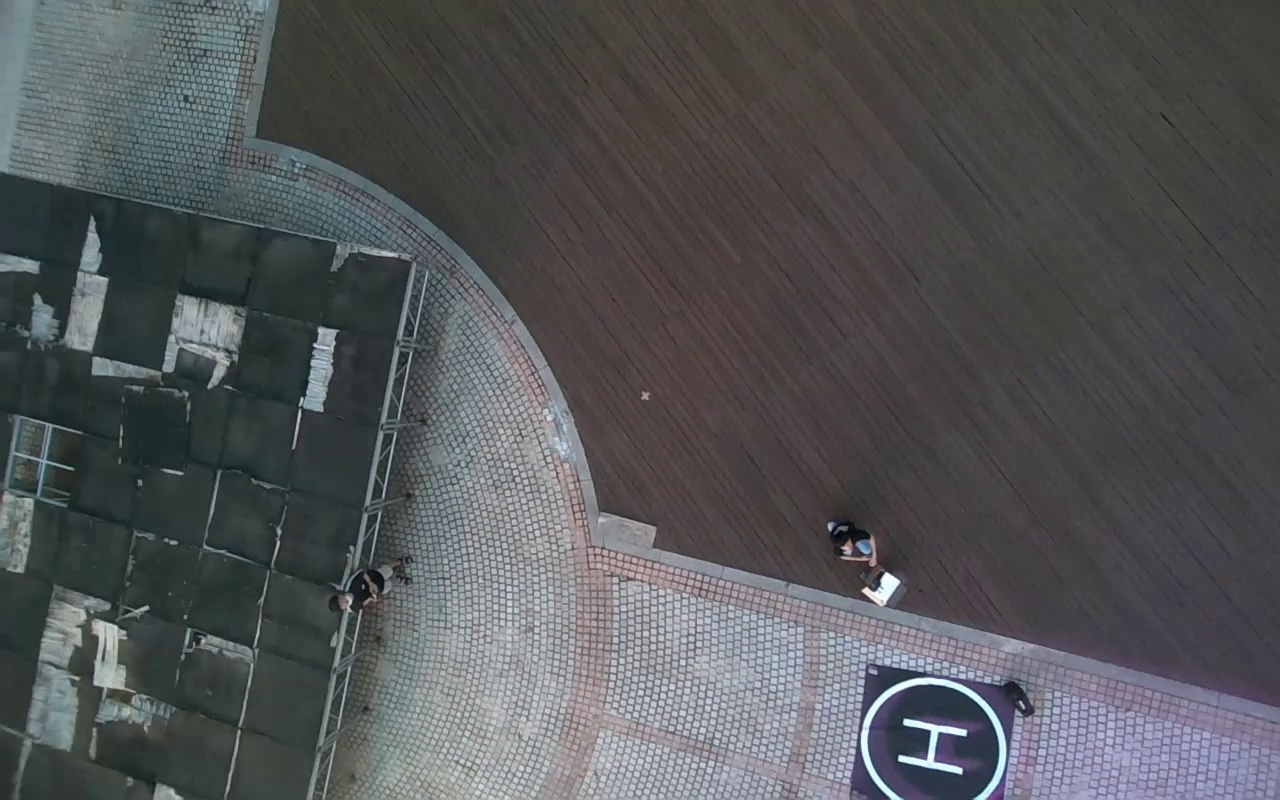H: (897, 717, 968, 778)
